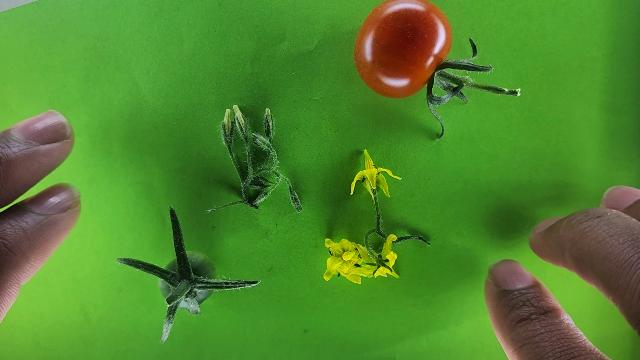Anthesis: (350, 149, 400, 203), (324, 238, 373, 284), (367, 234, 400, 280)
Flower Bud: (264, 108, 273, 136), (233, 105, 244, 126), (225, 108, 231, 120), (233, 104, 239, 113), (265, 108, 271, 116)
Fruit Maturation: (159, 251, 218, 310)
Fully Grown: (351, 0, 452, 98)
